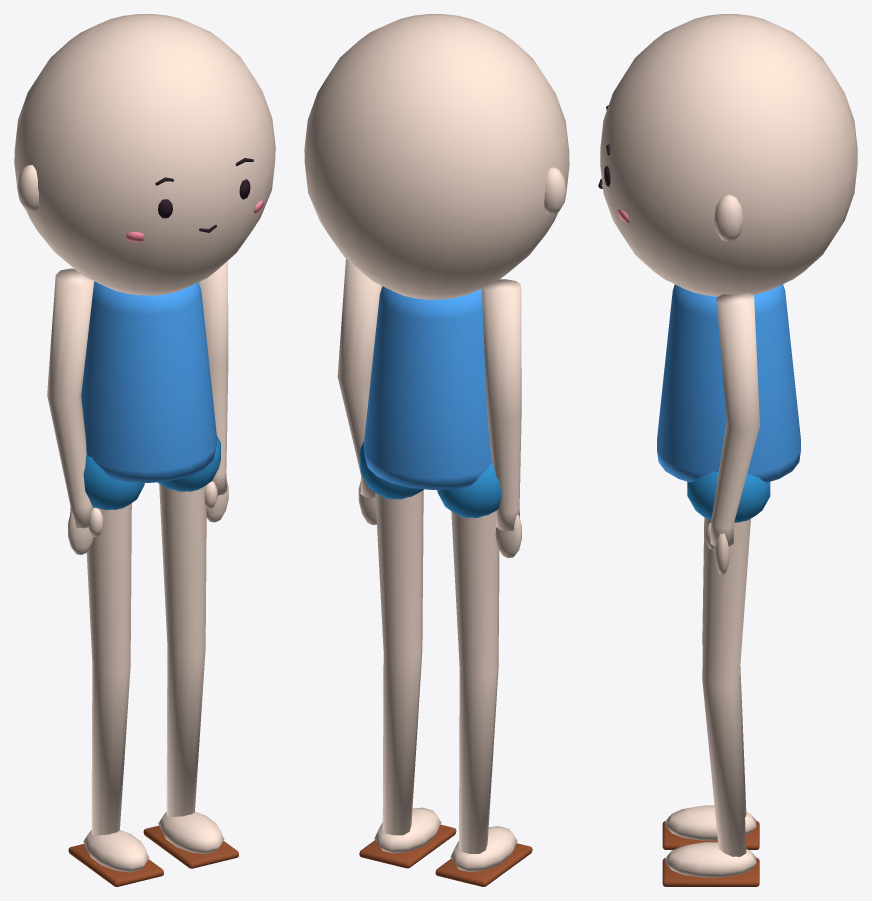
Rendered from hero-girl-grown.glb.
3 views of the same model, side by side, from view 1: azimuth 30°, elevation 25°; view 2: azimuth 150°, elevation 25°; view 3: azimuth 270°, elevation 25° (orthographic).
Parts seen in each view (by area): view 1: head, body, leg-left, leg-right, arm-left, arm-right; view 2: head, body, leg-left, leg-right, arm-left, arm-right; view 3: head, body, leg-right, arm-right, leg-left.
Boxes of the visible parts, <box> form: head: <box>14,14,275,295</box>; body: <box>81,281,217,482</box>; leg-left: <box>68,454,163,886</box>; leg-right: <box>143,436,238,868</box>; arm-left: <box>47,268,103,555</box>; arm-right: <box>199,261,228,522</box>; head: <box>304,14,569,299</box>; body: <box>363,286,492,489</box>; leg-left: <box>435,463,532,886</box>; leg-right: <box>359,442,456,868</box>; arm-left: <box>481,279,521,558</box>; arm-right: <box>337,258,381,525</box>; head: <box>598,14,857,296</box>; body: <box>657,284,800,482</box>; leg-right: <box>662,471,770,886</box>; arm-right: <box>706,293,759,574</box>; leg-left: <box>662,517,759,849</box>.
Size of the model in its own units: 0.9058 by 2.84 by 0.8014.
